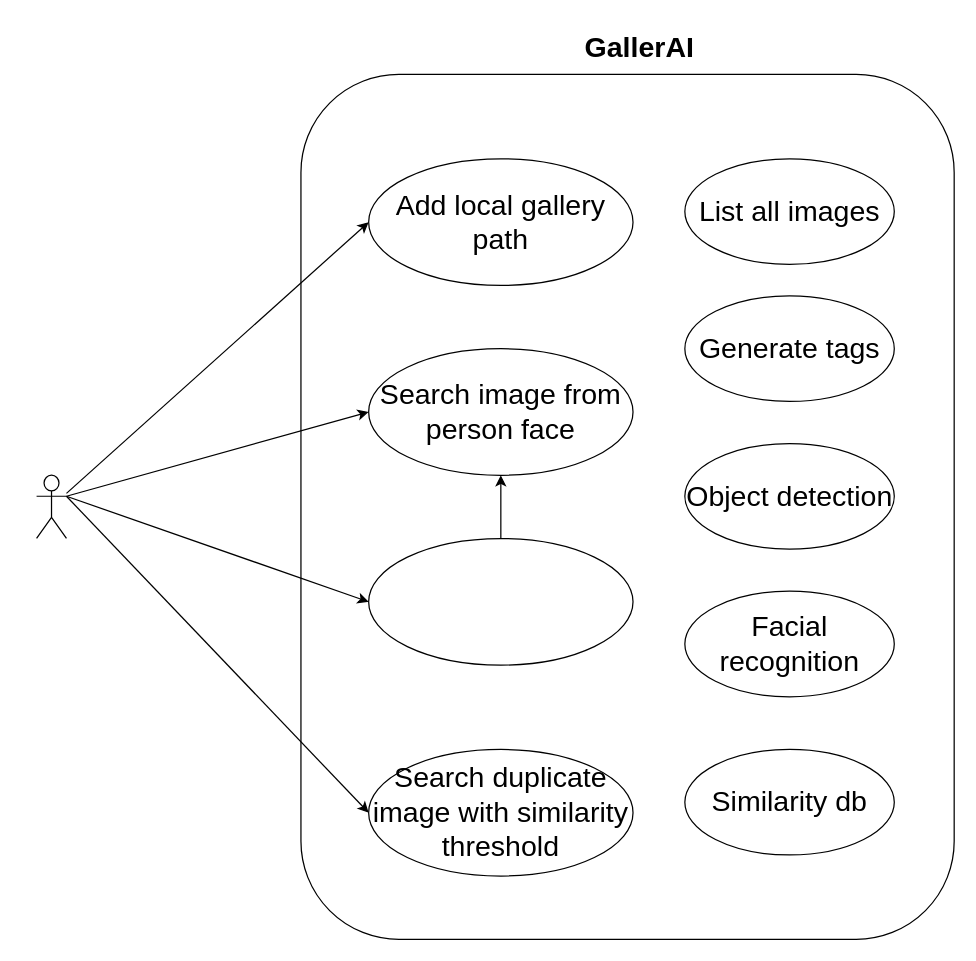
Some shapes in this 976 by 961 pixel diagram are drawn without their labels. The shapes that lost their labels are listed below. From the top down, each one's centre as x and y in pixels, then its label:
At point (50, 506): "User".
At point (500, 601): "Search image from keyword (Tag)".
